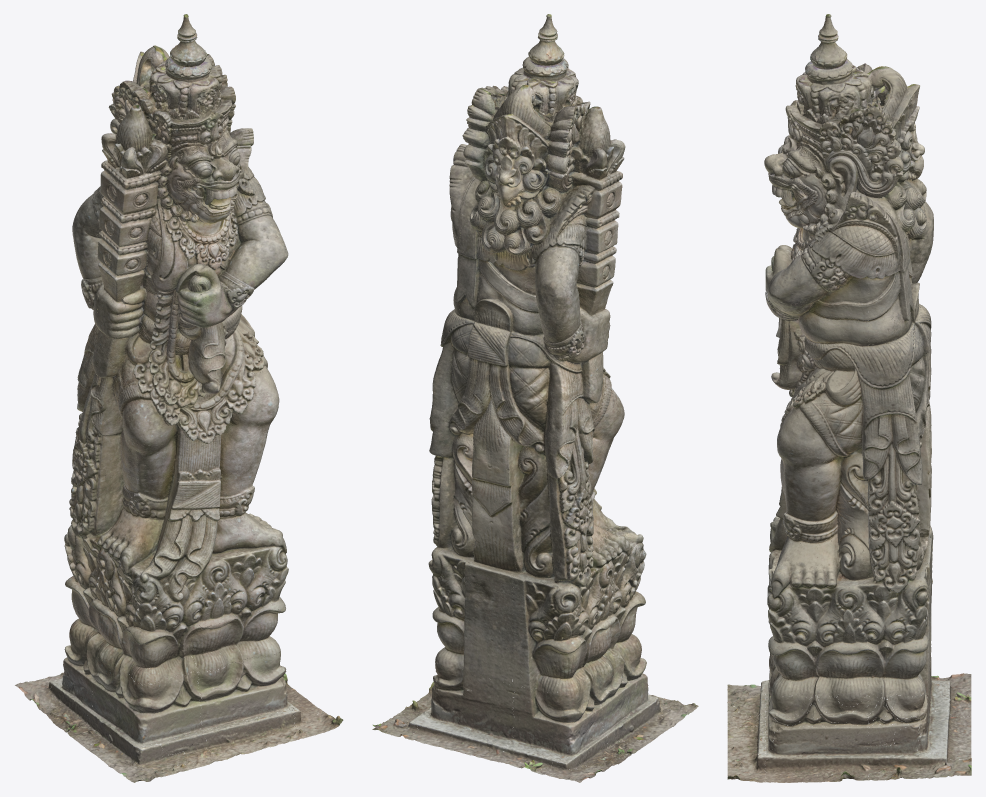
The model's file is balinese_bedogol_guardian_statue_01 (1)-compressed (2).glb.
The picture shows the model from 3 angles, left to right: view 1: azimuth 30°, elevation 25°; view 2: azimuth 150°, elevation 25°; view 3: azimuth 270°, elevation 25°; orthographic projection. The views are drawn at different scales.
Parts seen in each view (by area): view 1: garden_statue_01_0; view 2: garden_statue_01_0; view 3: garden_statue_01_0.
Part boxes in pixels (x1,y1,x2,y2): garden_statue_01_0: (15, 14, 343, 782); garden_statue_01_0: (372, 14, 698, 782); garden_statue_01_0: (727, 14, 971, 782).
Bounding box in the file's own units: 0.7717 × 2.5 × 0.7646.
Materials: 1 (1 with a texture image).
